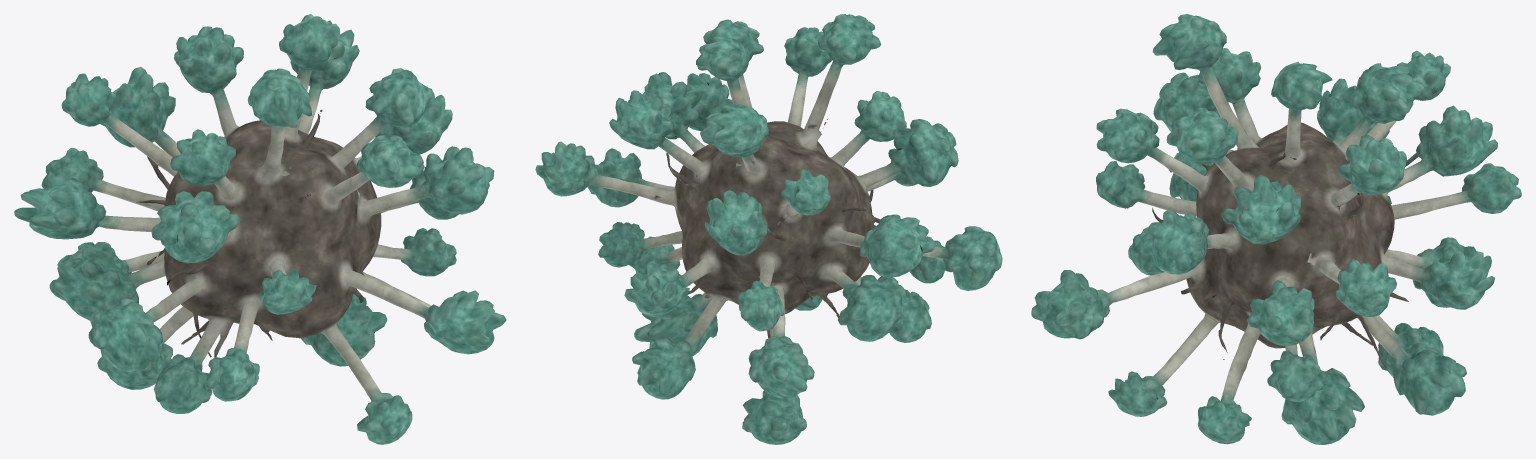
Rendered from boss-bloom.glb.
3 views of the same model, side by side, from view 1: azimuth 30°, elevation 25°; view 2: azimuth 150°, elevation 25°; view 3: azimuth 270°, elevation 25° (orthographic). The views are drawn at different scales.
Visible parts, largest first — view 1: attack-membrane; view 2: attack-membrane; view 3: attack-membrane.
Part boxes in pixels (bbox=[...]): attack-membrane: bbox=[14, 14, 506, 444]; attack-membrane: bbox=[535, 14, 1002, 444]; attack-membrane: bbox=[1031, 14, 1521, 444].
Size of the model in its own units: 1.97 by 1.7 by 1.97.
1 material, 1 textured.
